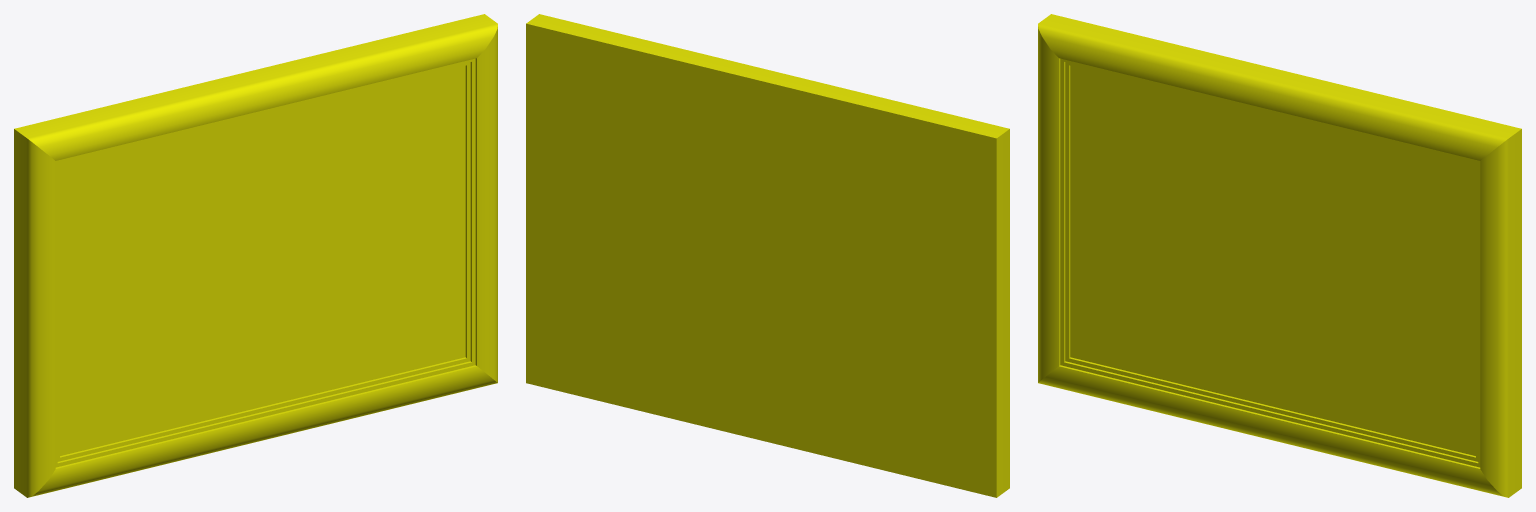
The model's file is pictureFrame1.fbx.
3 renders of one model, left to right at view 1: azimuth 30°, elevation 25°; view 2: azimuth 150°, elevation 25°; view 3: azimuth 330°, elevation 25°, orthographic.
Parts seen in each view (by area): view 1: pictureFrame1; view 2: pictureFrame1; view 3: pictureFrame1.
Part boxes in pixels (x1,y1,x2,y2): pictureFrame1: (14, 14, 497, 497); pictureFrame1: (526, 14, 1009, 497); pictureFrame1: (1038, 14, 1521, 497).
Size of the model in its own units: 92.6 by 67.6 by 6.11.
